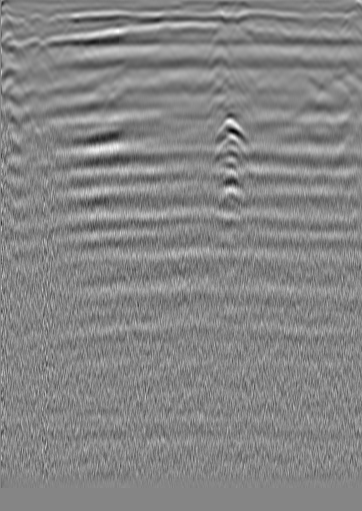가스: (214, 132, 251, 176)
상수: (314, 14, 334, 34)
오수: (29, 38, 49, 58)
우수: (154, 21, 174, 41)
